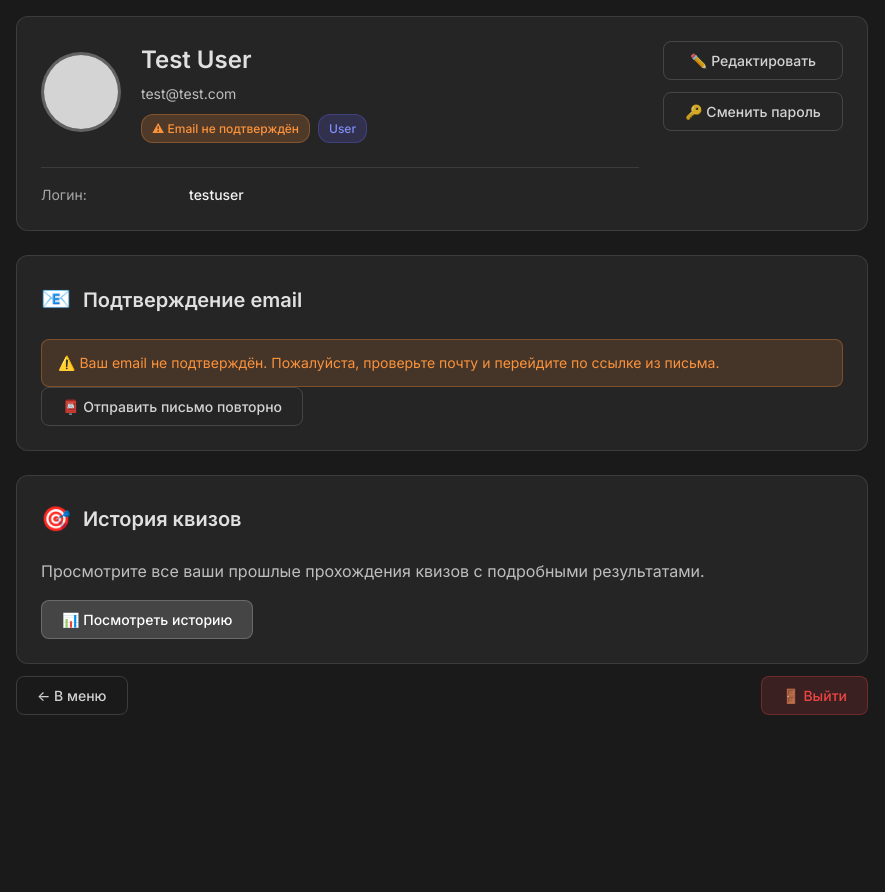
Profile › cancels edit mode when cancel button is clicked
Check: the heading "Test User" is shown, box [141,45,251,74]
# Enter edit mode
What coordinates should you click on to do the following:
click the button "✏️ Редактировать"
I would click on:
 (753, 60)
Its box is [663,41,843,80].
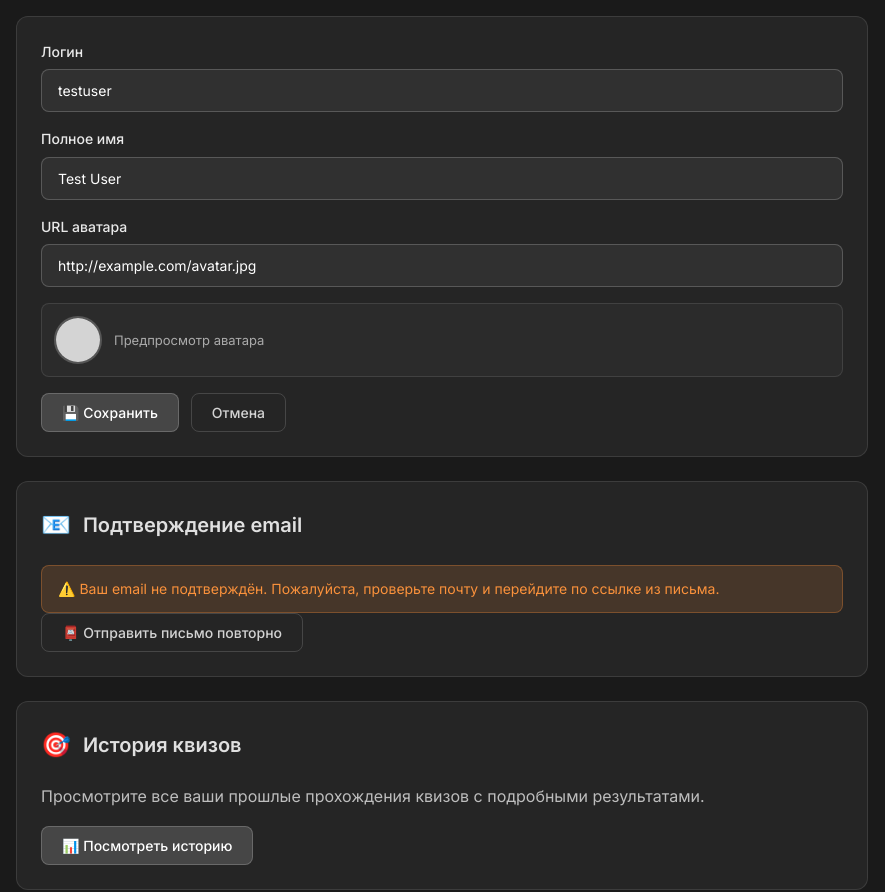
# Cancel edit mode
What coordinates should you click on to do the following:
click the button "Отмена"
I would click on:
 (238, 413)
Its box is [191,393,286,432].
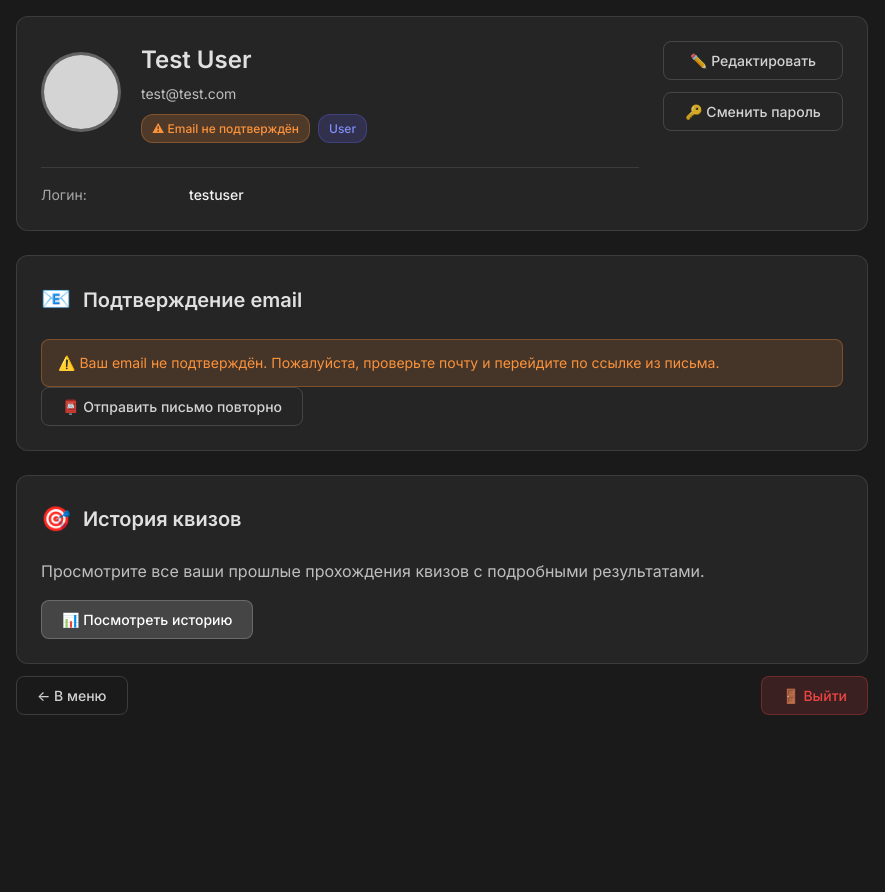
Check: the button "✏️ Редактировать" is shown, box [663,41,843,80]
